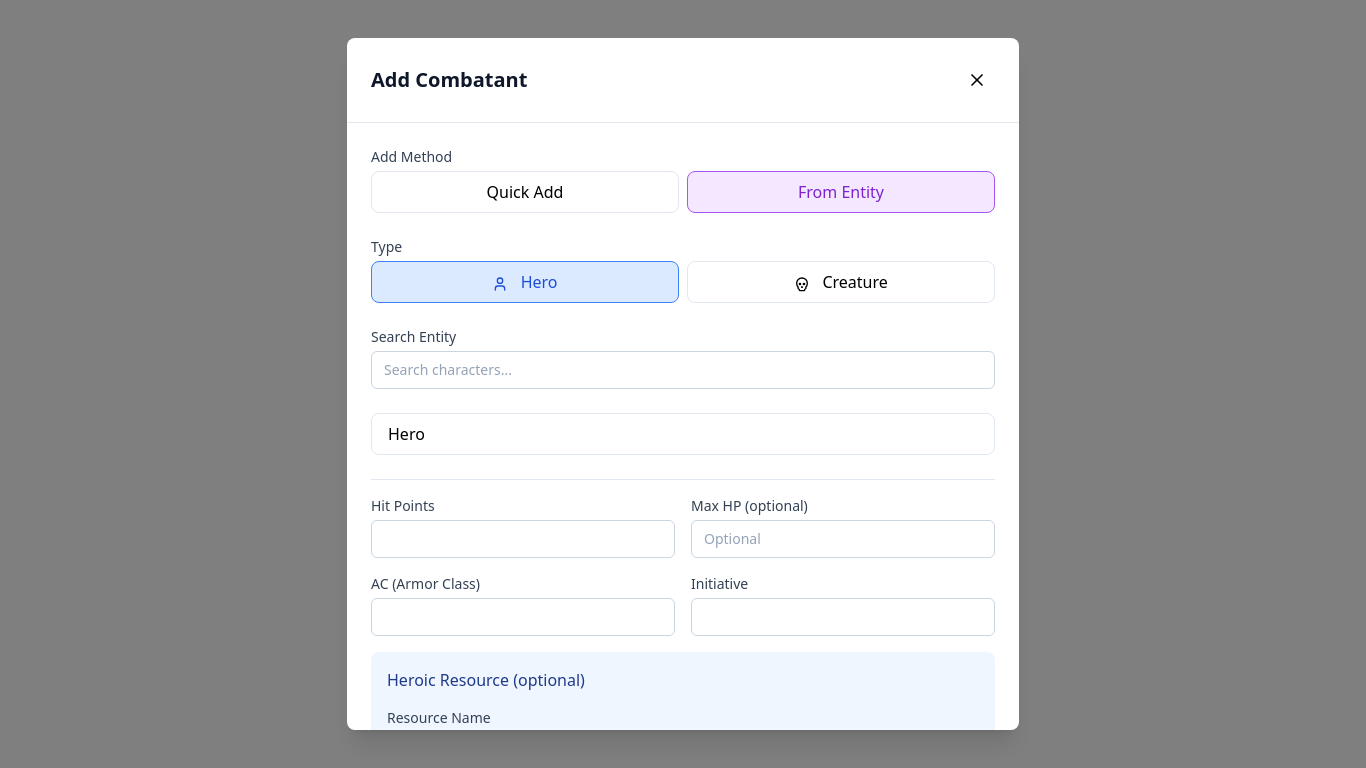
it: AddCombatantModal - Quick-Add Mode (Issue #233) › Quick Add Form Fields › should show simplified form in Quick Add mode
Click the button "Quick Add" at x=525, y=192, box [371, 171, 679, 213]
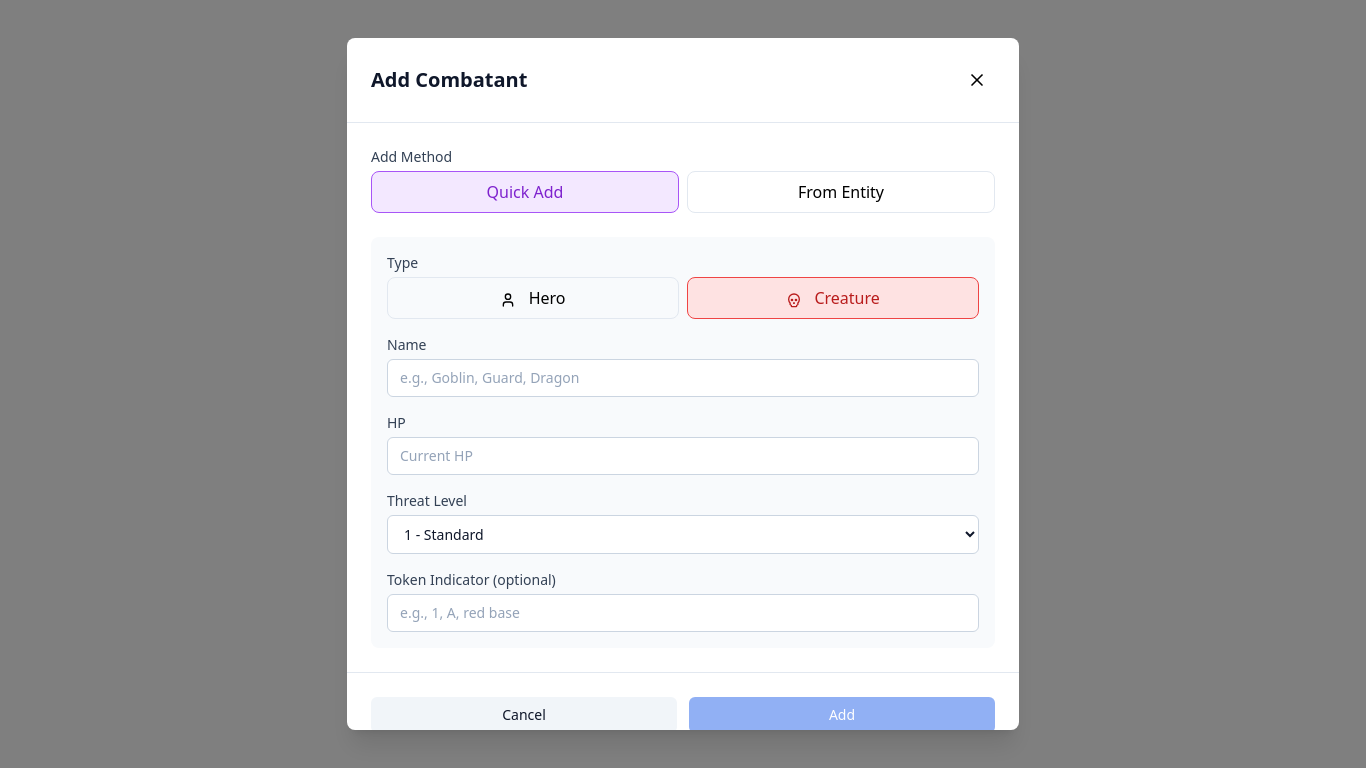
Expected: the text "Type" is shown, [387, 253, 418, 272]
Expected: the field named "combatant name" is shown, [387, 359, 979, 397]
Expected: the number field labelled "HP" is shown, [387, 437, 979, 475]
